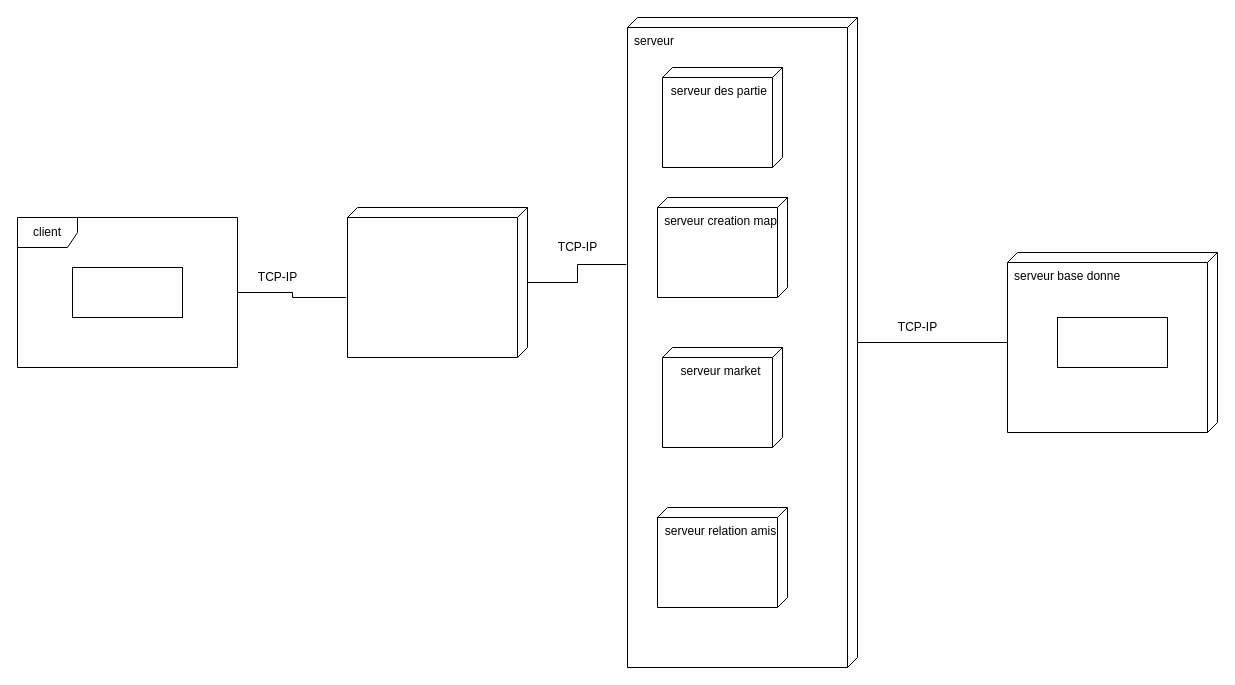
Image size: 1235x685. Some labels were removed from this diagram. Here are the shapes that lost their labels. From the top down, the centre of each, then its label:
At point 127,292: "application".
At point 437,282: "Serveur gerstion des requete".
At point 1112,342: "base donne".
